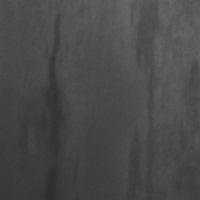inclusion: (125, 1, 161, 199), (32, 12, 68, 199), (171, 54, 199, 165)
